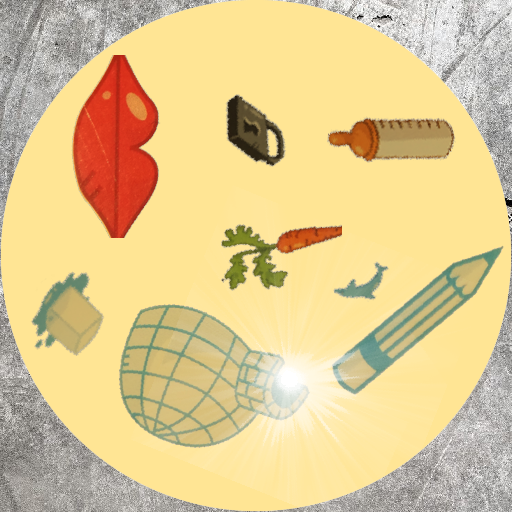bottle_icon: (327, 73, 457, 203)
carrot_icon: (209, 175, 342, 308)
cube_icon: (24, 270, 122, 368)
dolphin_icon: (333, 254, 393, 314)
igloo_icon: (115, 277, 315, 477)
lips_icon: (15, 55, 198, 238)
lock_icon: (215, 91, 294, 170)
pen_icon: (327, 227, 510, 410)
